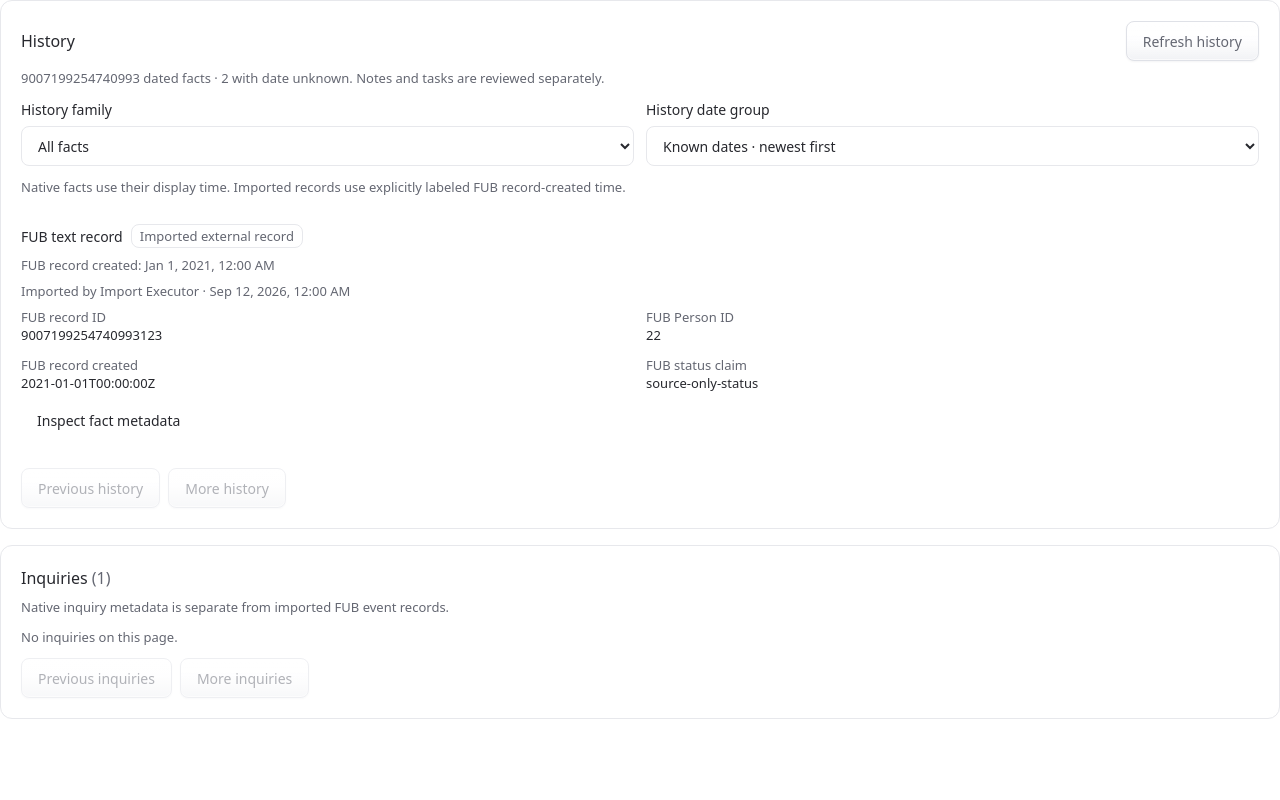
Test case: bounded historical Person review › rejects newer detail metadata instead of mixing it with the current page revision
Click the button "Inspect fact metadata" at (109, 420), box [21, 400, 196, 440]
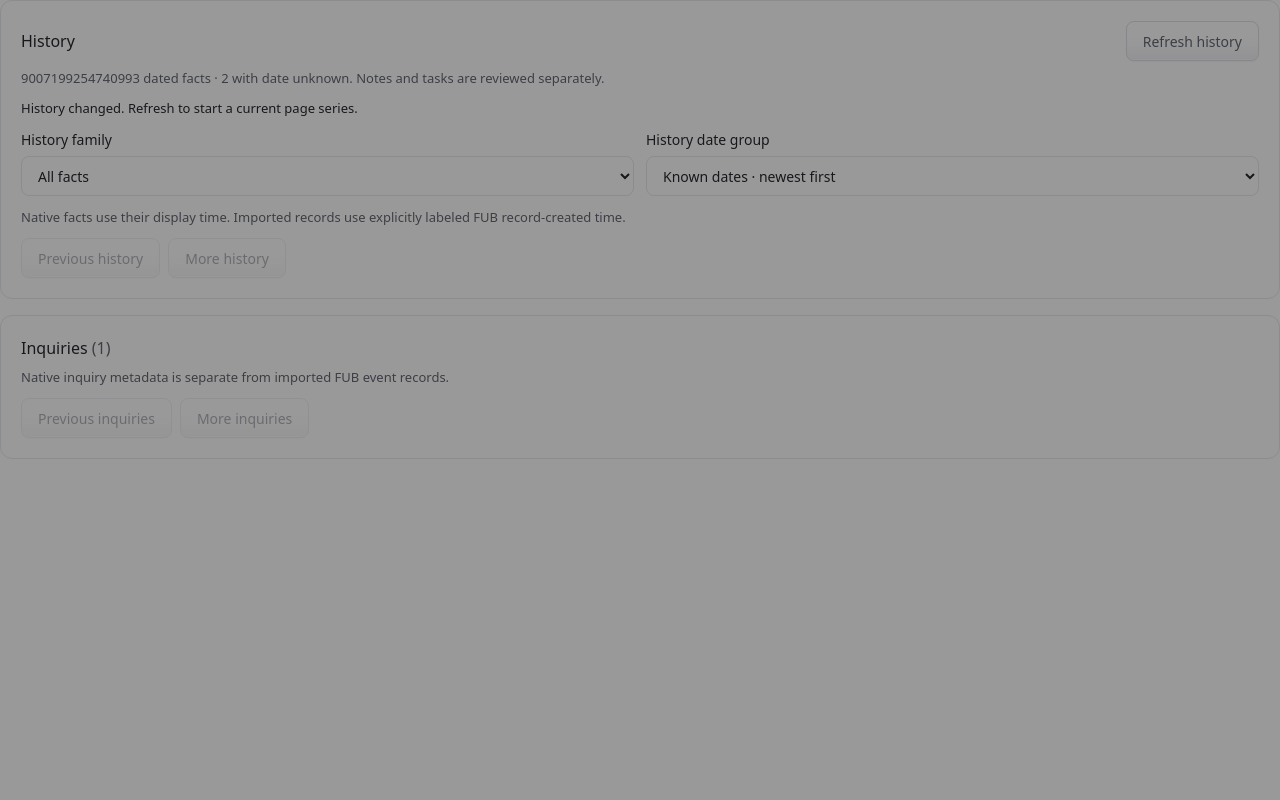
Now the text "History changed. Refresh" is shown, box [21, 99, 358, 117]
